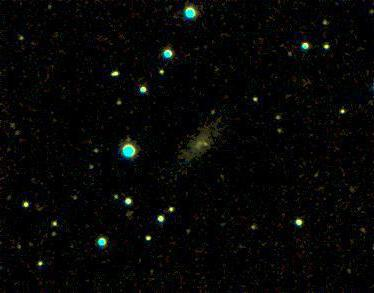star: (34, 0, 64, 18)
